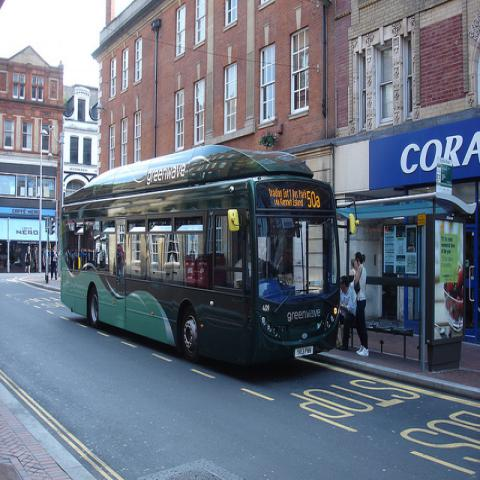bus: (60, 143, 341, 354)
